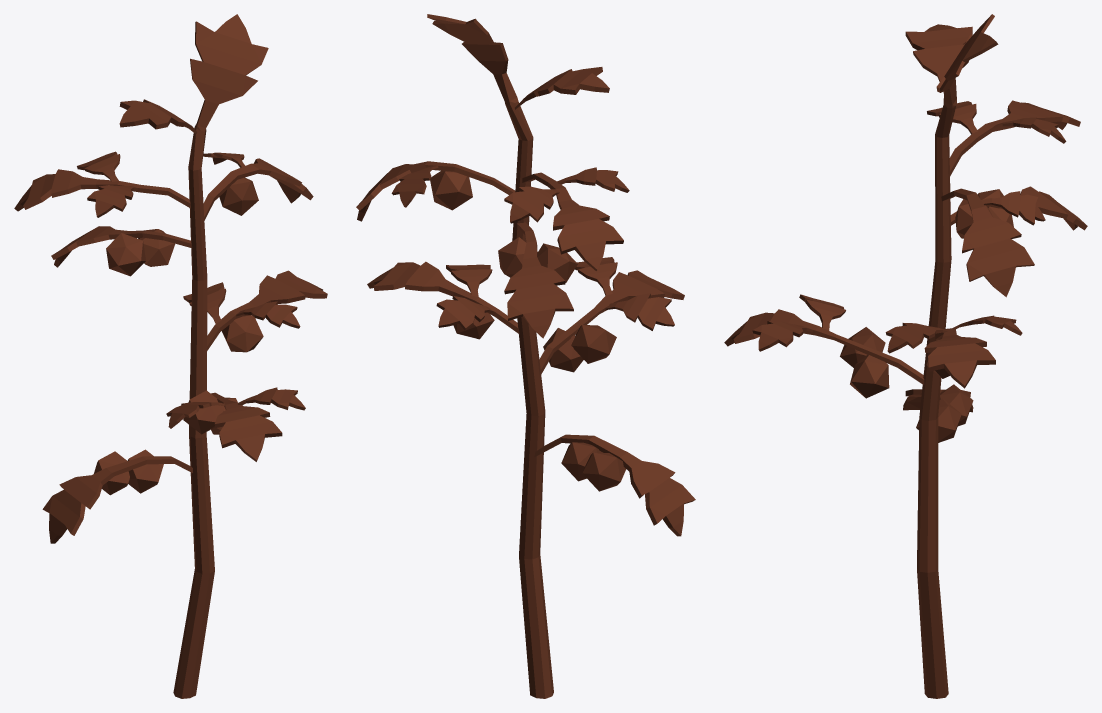
Rendered from Tomato_4.glb.
The picture shows the model from 3 angles, left to right: view 1: azimuth 30°, elevation 25°; view 2: azimuth 150°, elevation 25°; view 3: azimuth 270°, elevation 25°; orthographic projection. The views are drawn at different scales.
Parts seen in each view (by area): view 1: Tomato_4_Icosphere.013; view 2: Tomato_4_Icosphere.013; view 3: Tomato_4_Icosphere.013.
Boxes of the visible parts, <box> form: Tomato_4_Icosphere.013: <box>14,14,327,698</box>; Tomato_4_Icosphere.013: <box>356,14,695,698</box>; Tomato_4_Icosphere.013: <box>724,14,1087,698</box>.
Size of the model in its own units: 0.7932 by 1.72 by 0.81.
